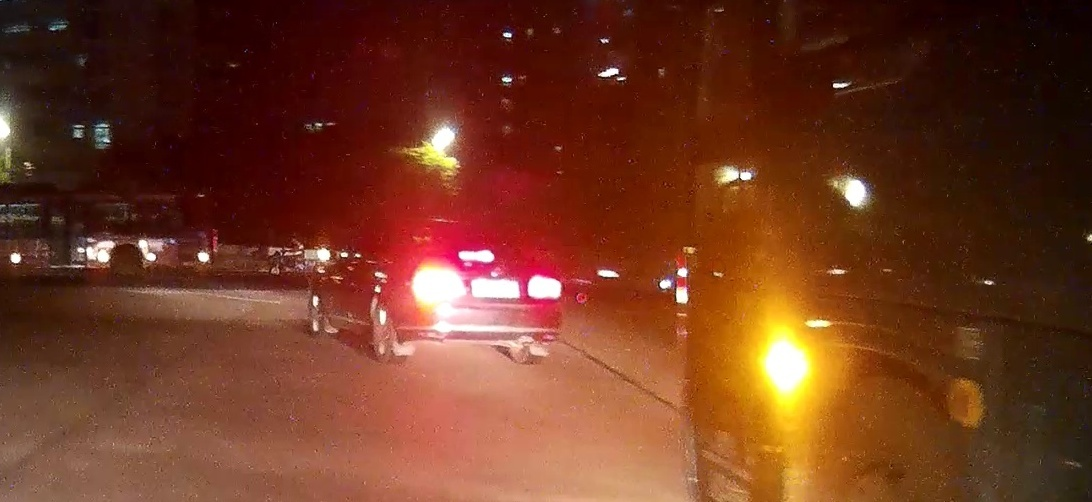L_light: (412, 268, 466, 299)
R_light: (527, 275, 561, 299)
T_light: (458, 248, 495, 263)
night-left: (390, 223, 564, 365)
